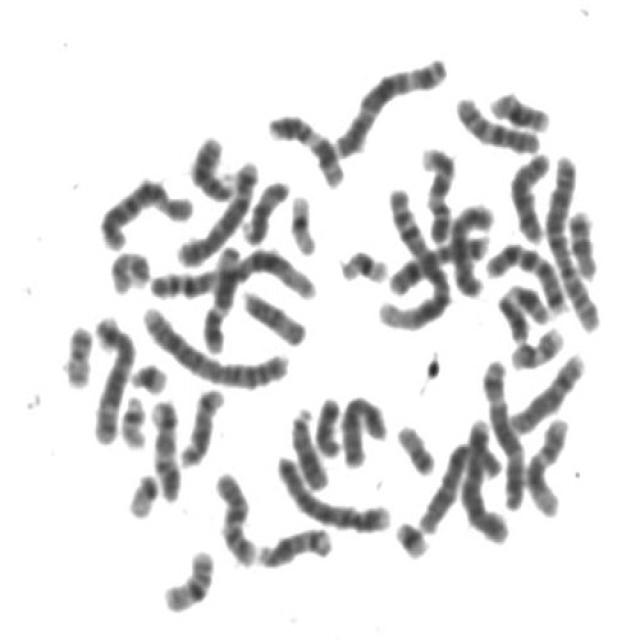A1: (374, 178, 454, 333), (141, 236, 319, 303)
A2: (135, 296, 293, 390), (538, 144, 606, 333)
A3: (325, 44, 451, 159), (475, 349, 527, 512)
B4: (269, 446, 393, 534), (454, 408, 512, 546)
B5: (169, 150, 261, 269), (84, 306, 138, 447)
C10: (447, 85, 544, 156), (207, 460, 260, 569)
C11: (260, 103, 348, 190), (490, 275, 554, 343)
C12: (517, 408, 572, 518), (194, 235, 244, 355)
C6: (411, 431, 504, 536), (92, 168, 197, 251)
C7: (381, 226, 493, 297), (479, 232, 572, 316)
C8: (502, 342, 589, 436), (503, 141, 553, 245)
C9: (413, 137, 457, 245), (143, 389, 184, 503)
D13: (283, 398, 331, 491), (183, 126, 239, 202)
D14: (173, 377, 228, 469), (248, 517, 336, 570)
D15: (234, 279, 310, 348), (234, 170, 293, 247)
E16: (155, 539, 217, 615), (481, 80, 553, 134)
E17: (503, 318, 567, 371), (102, 240, 152, 296)
E18: (562, 199, 602, 281), (308, 387, 344, 459)
F19: (282, 184, 320, 257), (332, 239, 392, 285)
F20: (55, 314, 96, 391), (389, 414, 439, 477)
G21: (388, 509, 432, 560), (122, 352, 170, 395)
G22: (112, 385, 150, 450), (120, 464, 162, 522)
X: (443, 193, 497, 300), (333, 385, 390, 469)
